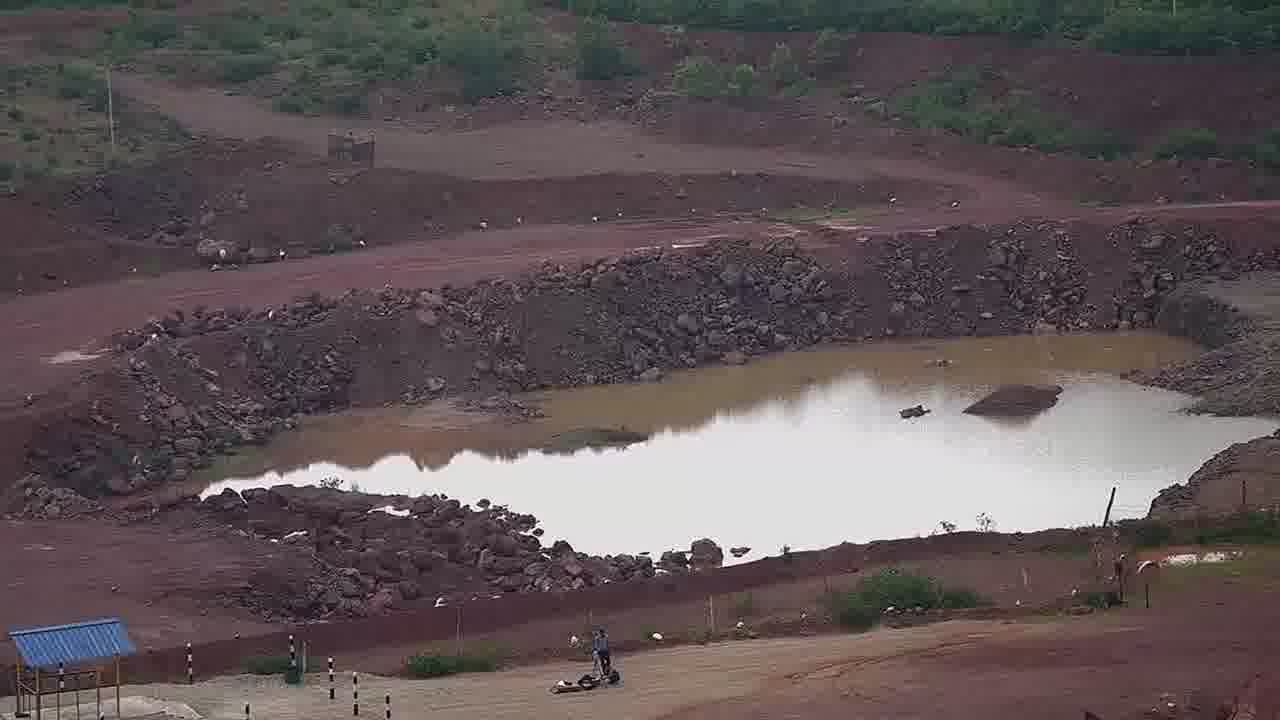person: (590, 624, 616, 684)
